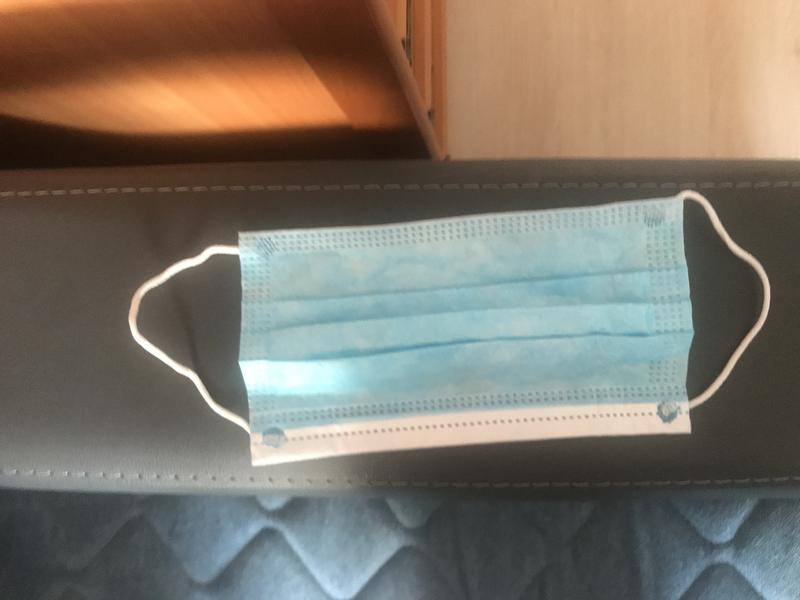medical_mask: (129, 189, 770, 465)
